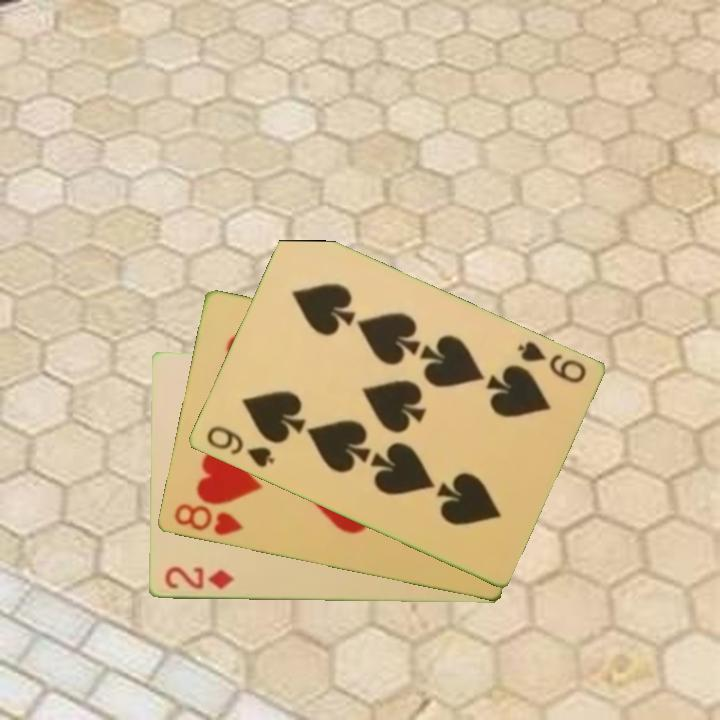2d: (161, 563, 237, 593)
8h: (170, 500, 247, 539)
9s: (513, 338, 589, 387), (202, 422, 277, 471)
